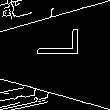L_W: (30, 40, 80, 70)
